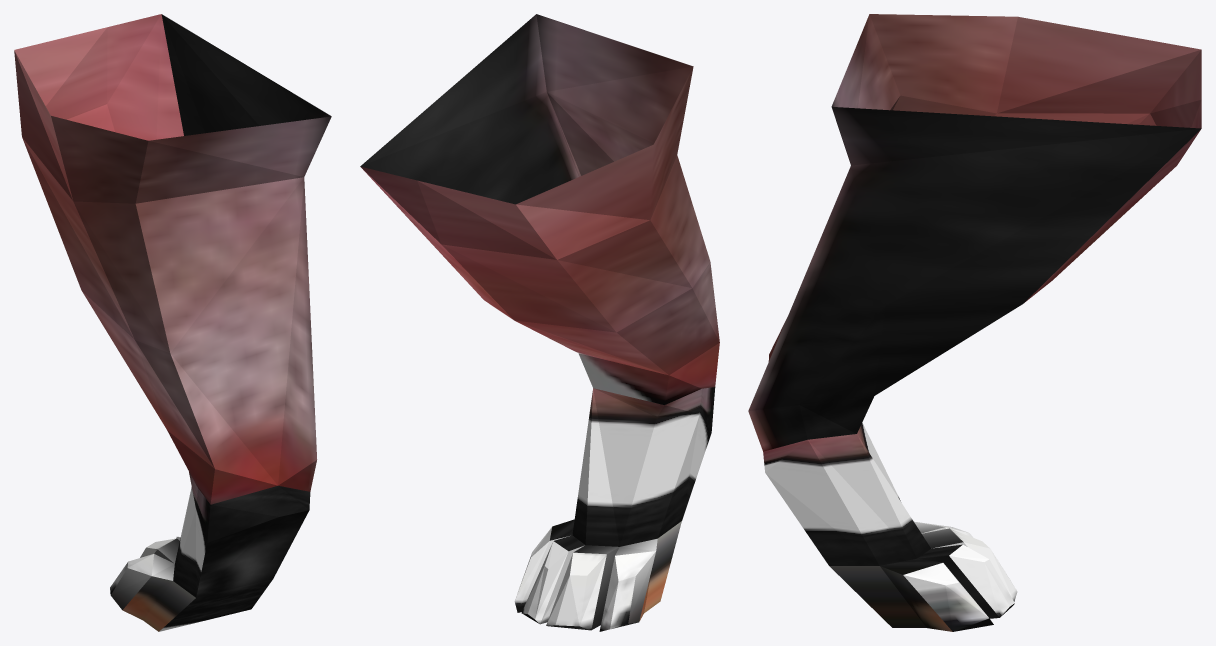
File: Cat_LeftRear.obj
The picture shows the model from 3 angles, left to right: view 1: azimuth 30°, elevation 25°; view 2: azimuth 150°, elevation 25°; view 3: azimuth 270°, elevation 25°; orthographic projection. The views are drawn at different scales.
Parts seen in each view (by area): view 1: Cat_LeftRear; view 2: Cat_LeftRear; view 3: Cat_LeftRear.
Boxes of the visible parts, x1,y1,x2,y2 form: Cat_LeftRear: (14, 14, 331, 631); Cat_LeftRear: (360, 14, 719, 631); Cat_LeftRear: (748, 14, 1201, 631).
Bounding box in the file's own units: 0.1922 × 0.4723 × 0.3508.
